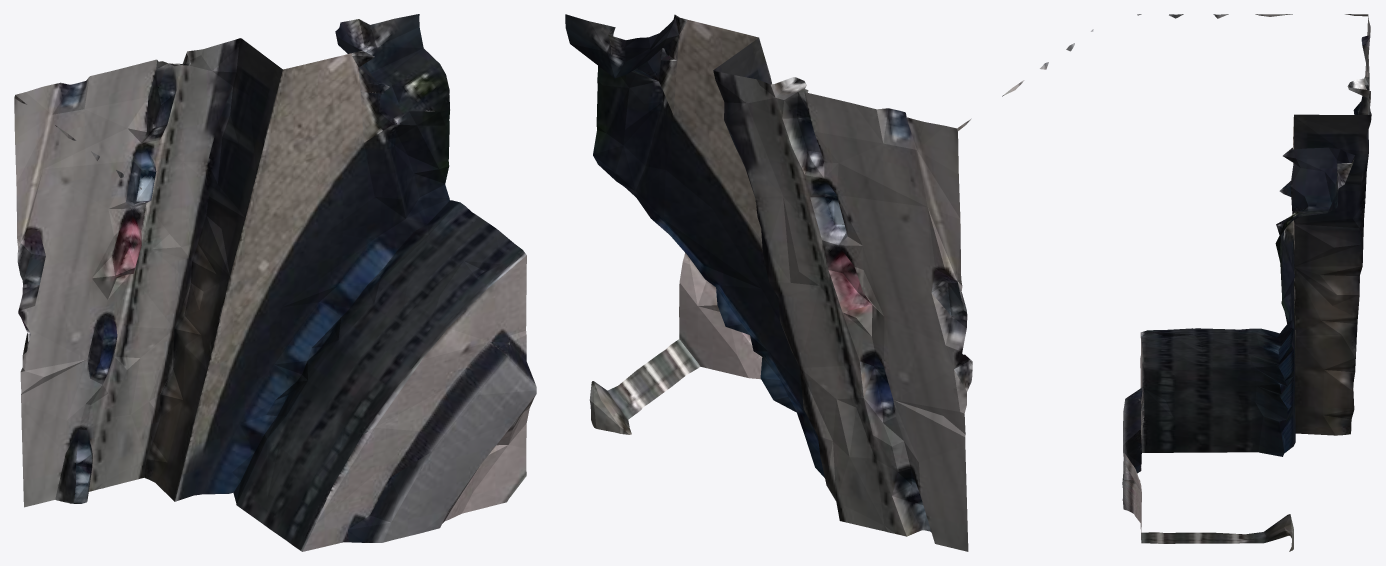
File: Tile_+031_+022_L19_000130.obj
3 views of the same model, side by side, from view 1: azimuth 30°, elevation 25°; view 2: azimuth 150°, elevation 25°; view 3: azimuth 270°, elevation 25° (orthographic). The views are drawn at different scales.
Bounding box in the file's own units: 31.75 × 31.75 × 19.55.
1 material, 1 textured.
